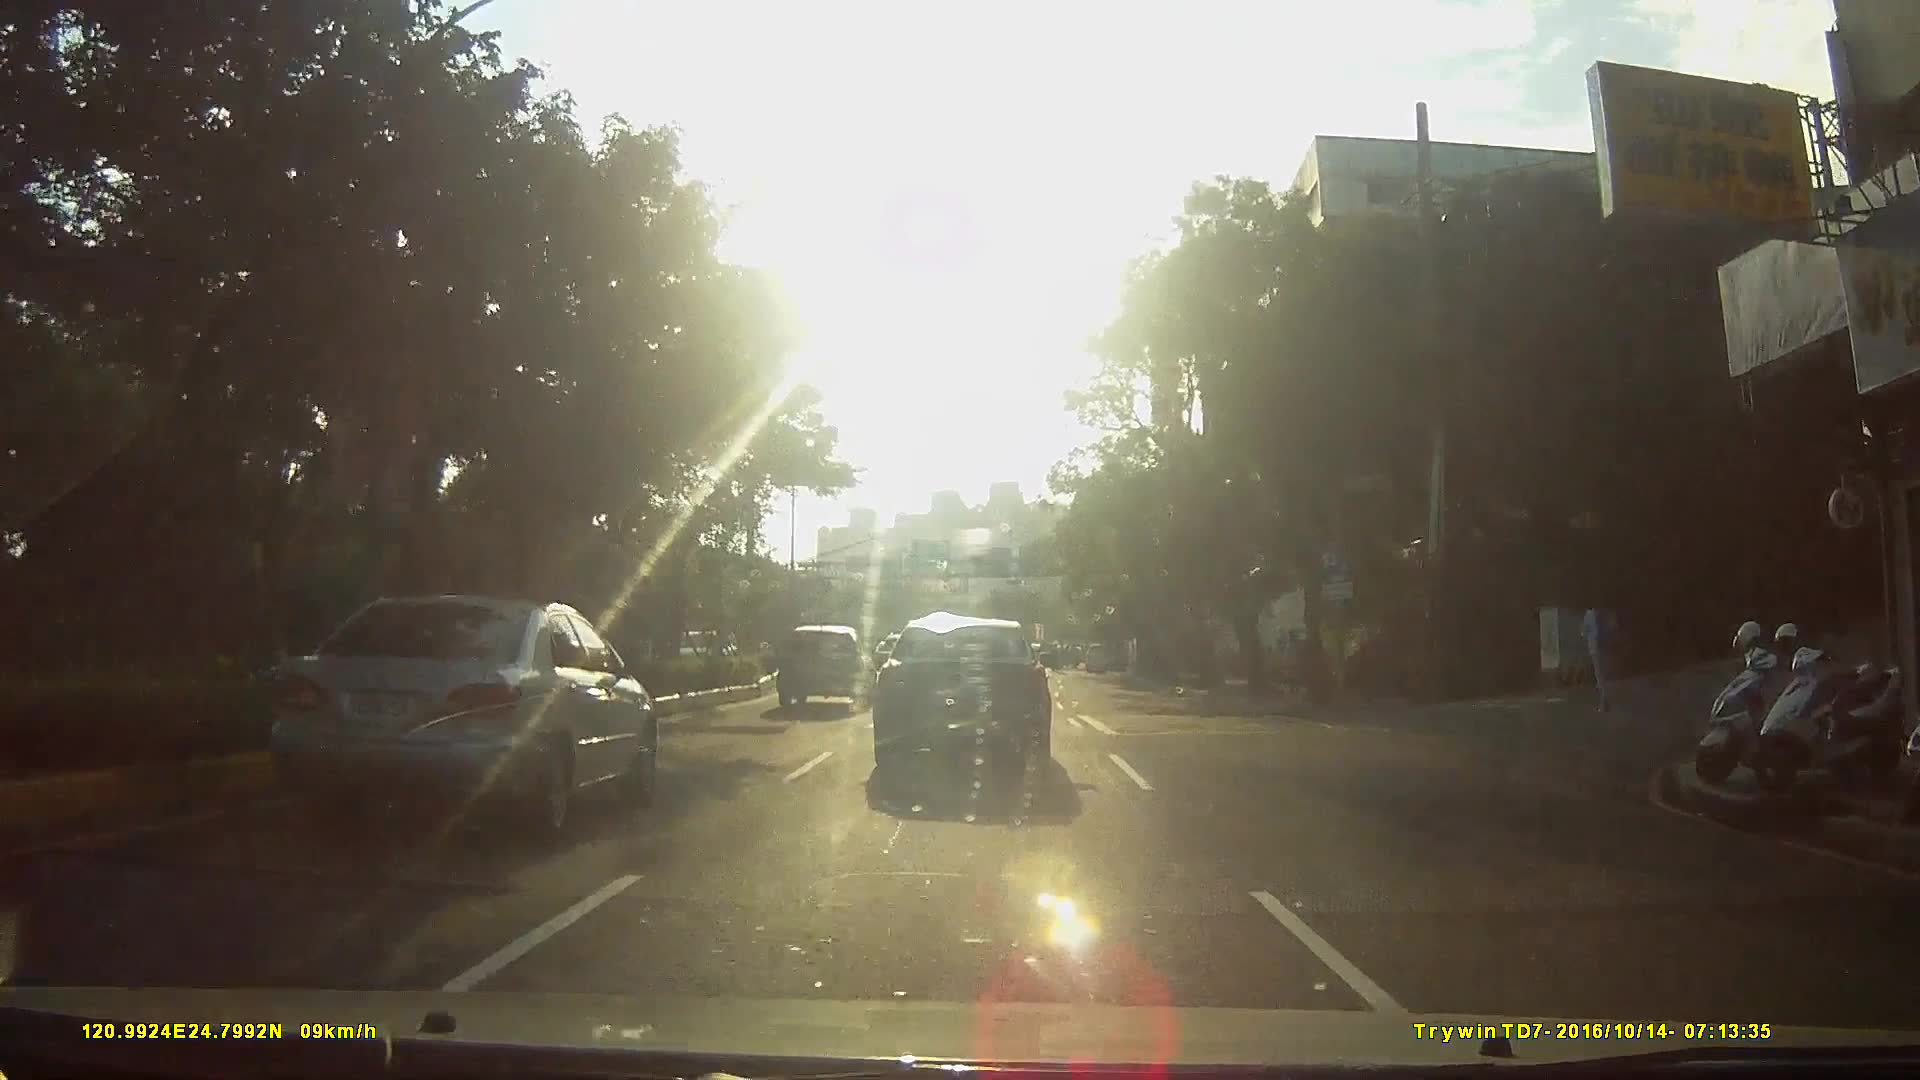pedestrian: (1586, 587, 1636, 709)
vehicle: (254, 591, 662, 838), (876, 614, 1071, 781), (777, 624, 880, 711), (1080, 641, 1113, 674)
